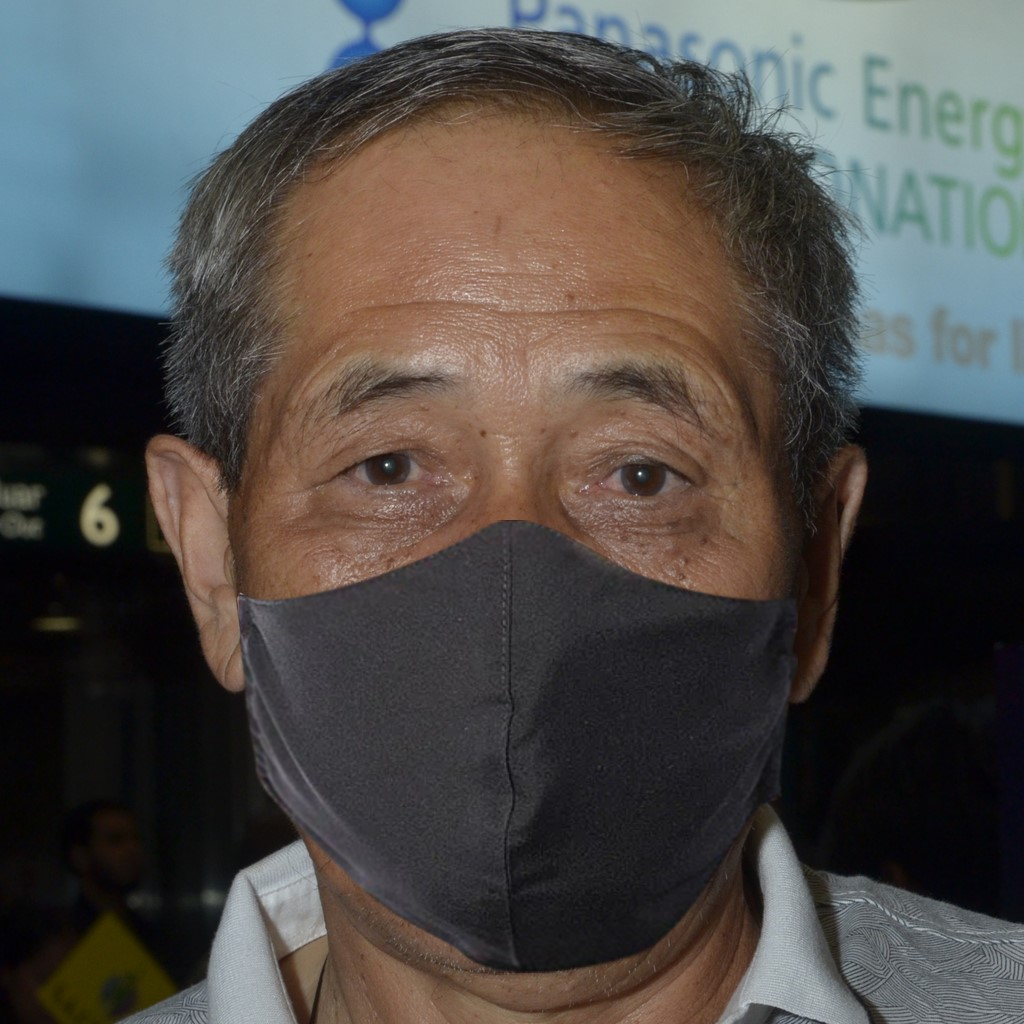con_mascara: (210, 69, 820, 970)
